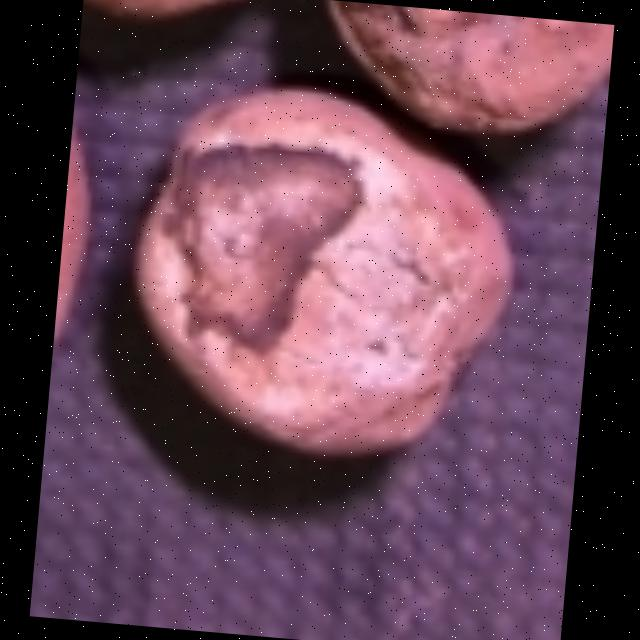Damaged potato: (98, 67, 534, 504)
